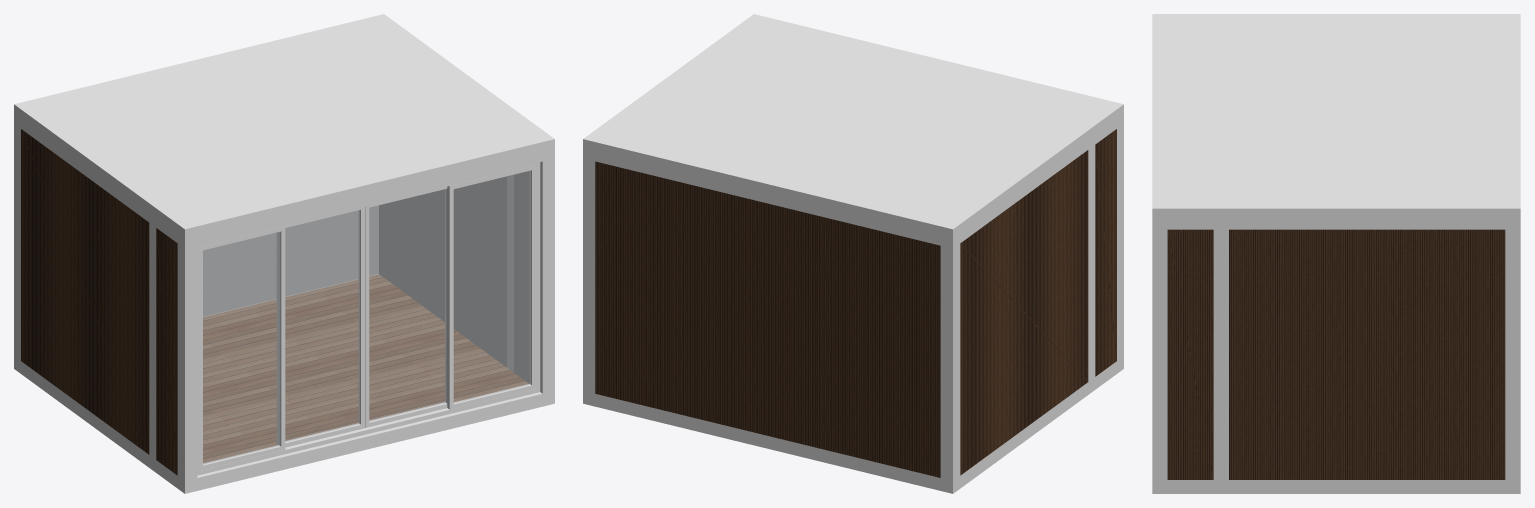
Rendered from Pod_size_15x12_standard_without_windows.glb.
The picture shows the model from 3 angles, left to right: view 1: azimuth 30°, elevation 25°; view 2: azimuth 150°, elevation 25°; view 3: azimuth 270°, elevation 25°; orthographic projection. The views are drawn at different scales.
Parts seen in each view (by area): view 1: FRAME (×21), Geom3D (×4), EXTERIORWALL (×2), DECK2, INTERIORWALL (×3); view 2: EXTERIORWALL (×3), FRAME (×9); view 3: FRAME (×6), EXTERIORWALL (×2).
Part boxes in pixels (x1,y1,x2,y2): FRAME (×21): (14, 14, 554, 493); Geom3D (×4): (203, 171, 530, 464); EXTERIORWALL (×2): (21, 129, 177, 475); DECK2: (203, 274, 528, 463); INTERIORWALL (×3): (203, 171, 529, 383); EXTERIORWALL (×3): (595, 129, 1116, 477); FRAME (×9): (583, 14, 1123, 493); FRAME (×6): (1152, 14, 1520, 493); EXTERIORWALL (×2): (1167, 229, 1505, 479).
Size of the model in its own units: 4.57 by 3.12 by 3.66.
68 materials, 29 textured.
